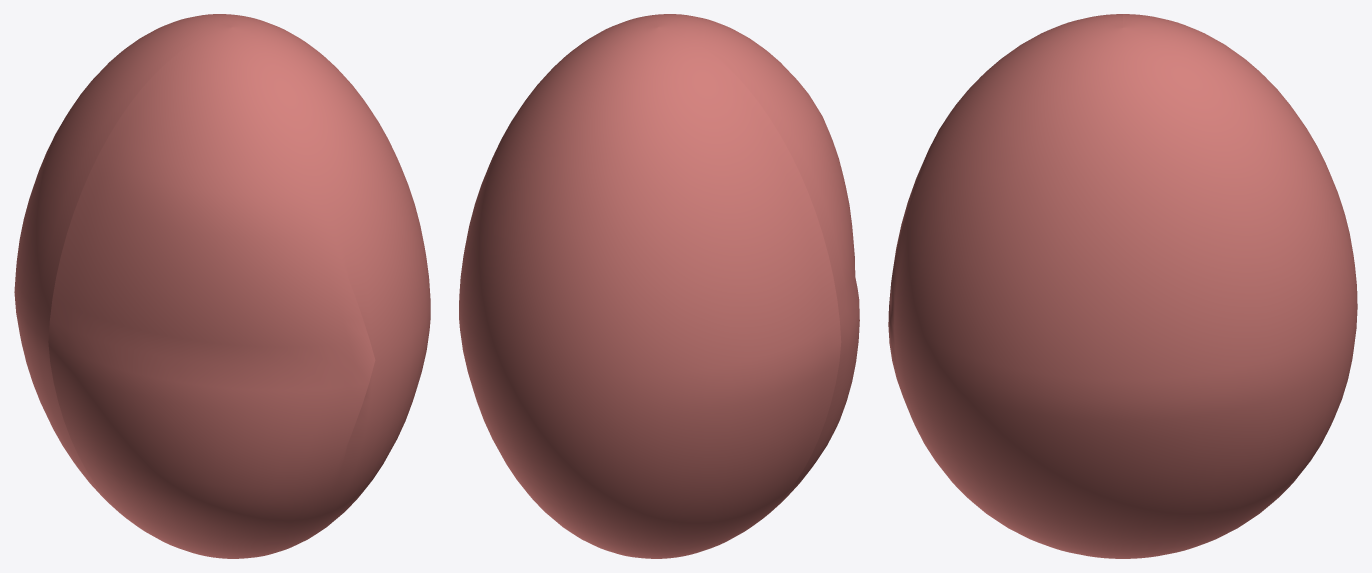
The model's file is lower-lobe-of-left-lung.glb.
3 renders of one model, left to right at view 1: azimuth 30°, elevation 25°; view 2: azimuth 150°, elevation 25°; view 3: azimuth 270°, elevation 25°, orthographic. The views are drawn at different scales.
Visible parts, largest first — view 1: lower-lobe-of-left-lung; view 2: lower-lobe-of-left-lung; view 3: lower-lobe-of-left-lung.
Part boxes in pixels (left/top/right/bottom): lower-lobe-of-left-lung: left=14, top=14, right=430, bottom=558; lower-lobe-of-left-lung: left=459, top=14, right=859, bottom=558; lower-lobe-of-left-lung: left=888, top=14, right=1357, bottom=558.
Size of the model in its own units: 0.2068 by 0.2898 by 0.2346.
